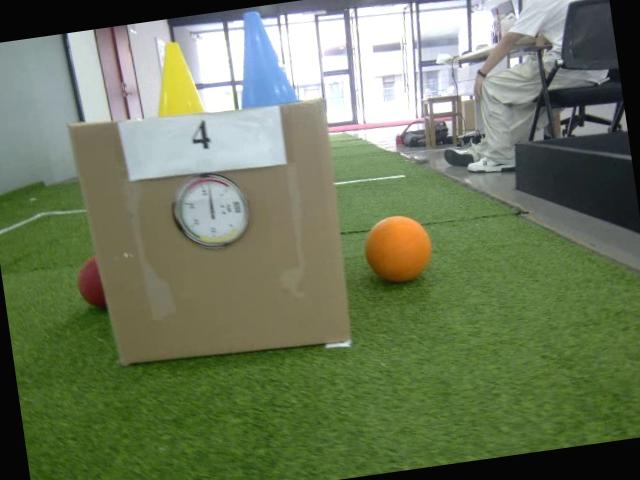4: (188, 118, 213, 152)
Dashboard: (167, 168, 254, 255)
blue_barrel: (225, 8, 302, 112)
orange_ball: (358, 213, 436, 289)
red_ball: (72, 253, 108, 312)
ssi: (232, 198, 243, 216)
yellow_barrel: (147, 38, 208, 120)
